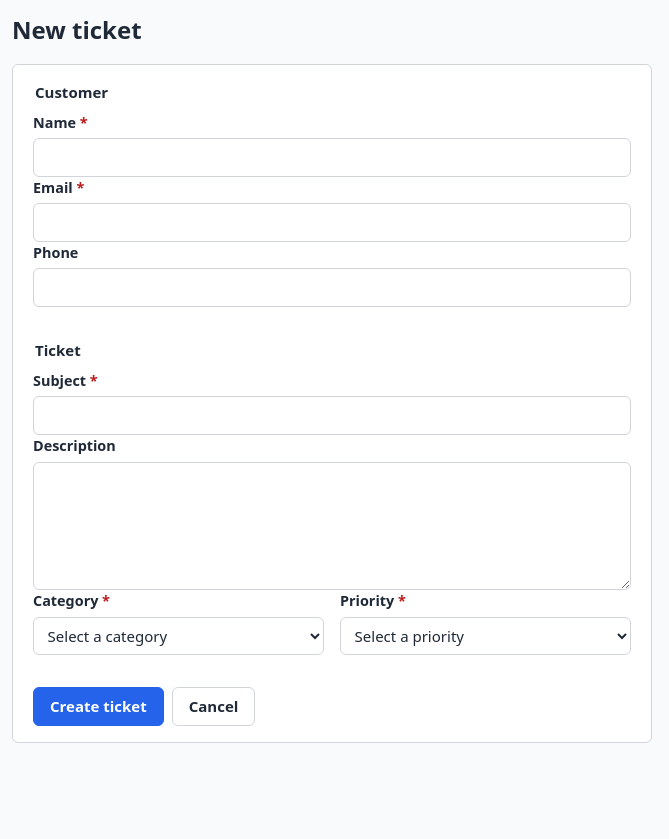
Scenario: TicketCreate page › shows the message of a failure that has no field errors
Type "Sara Ali" into the field with id "customer_name" at (332, 157), box [33,138,631,177]
Type "Sara@Example.com" into the field with id "customer_email" at (332, 223), box [33,203,631,242]
Type "+966500000000" into the field with id "customer_phone" at (332, 288), box [33,268,631,307]
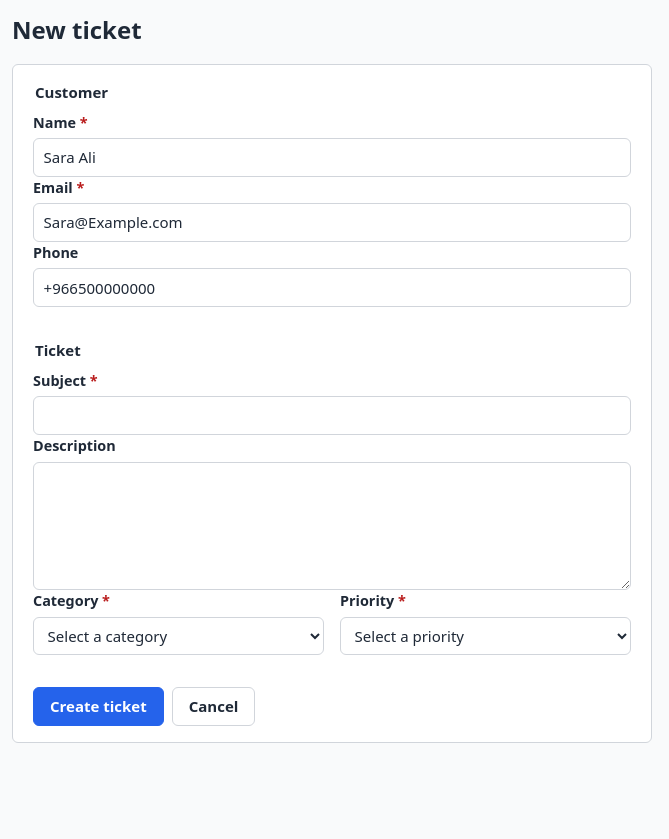
Type "Refund not received" into the field with id "subject" at (332, 416), box [33,396,631,435]
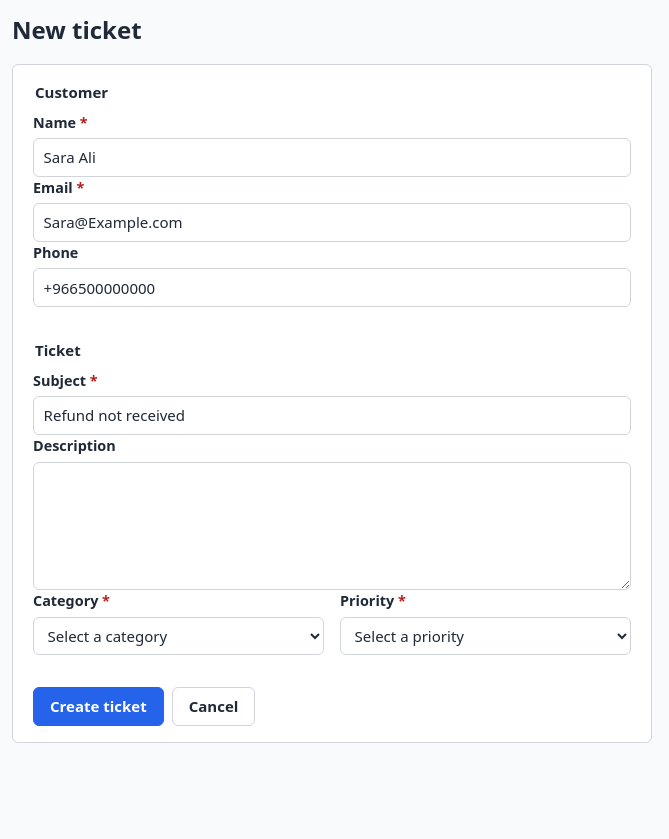
Type "Paid twice in September." into the text box with id "description" at (332, 526), box [33,462,631,590]
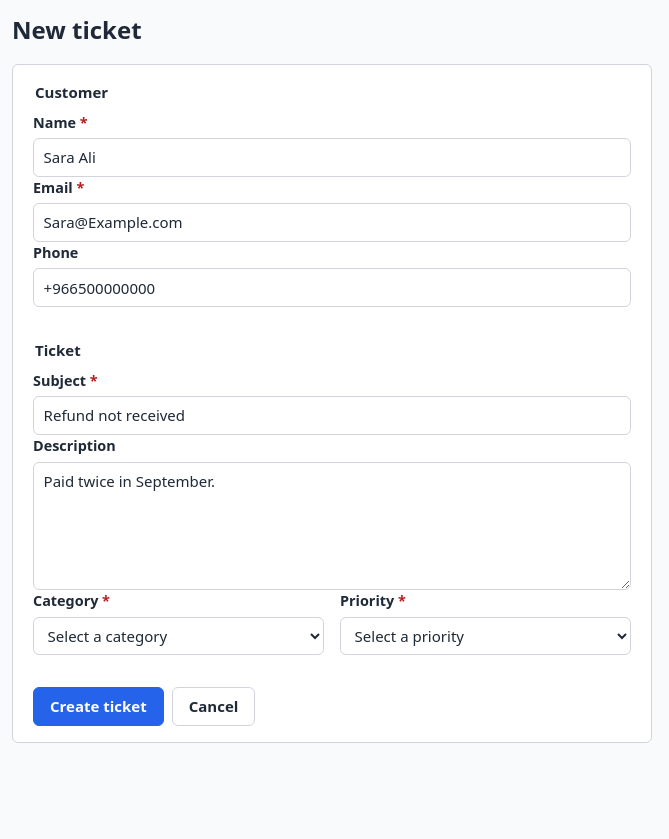
Select "Billing" in the dropdown with id "category" at (178, 636), box [33,617,324,655]
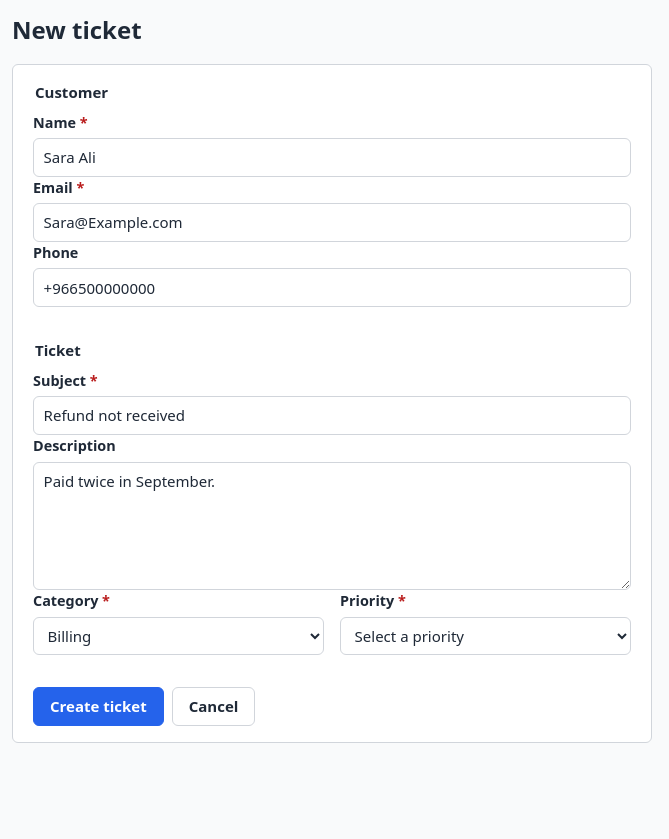
Select "High" in the dropdown labelled "Priority *" at (486, 636), box [340,617,631,655]
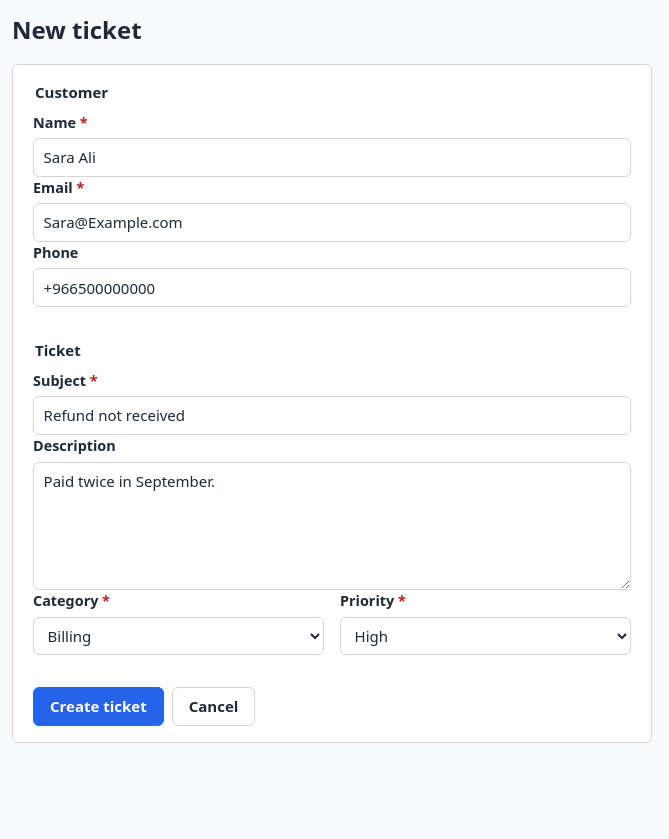
Submit the form
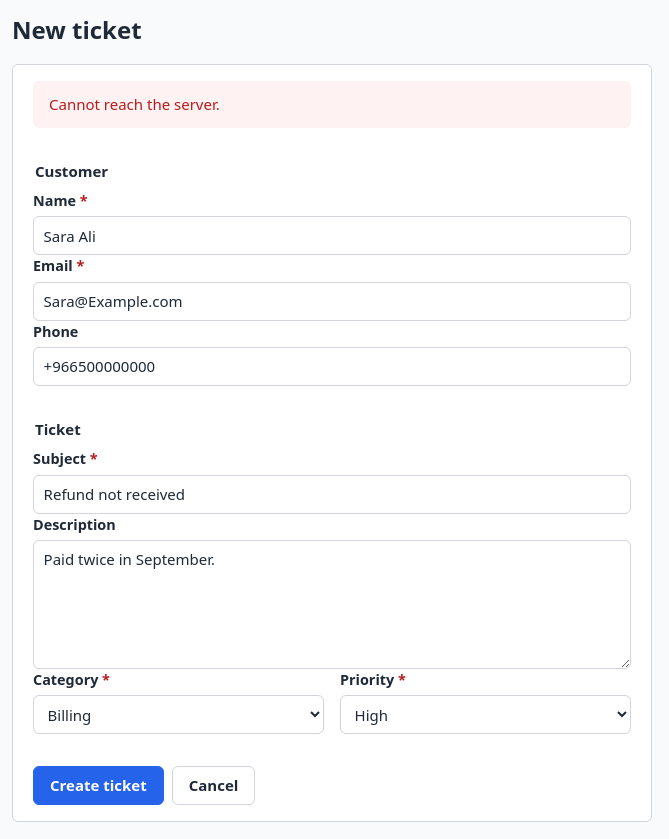
Expected: the message with class "form-error" reads "Cannot reach the server.", [49,94,220,114]
